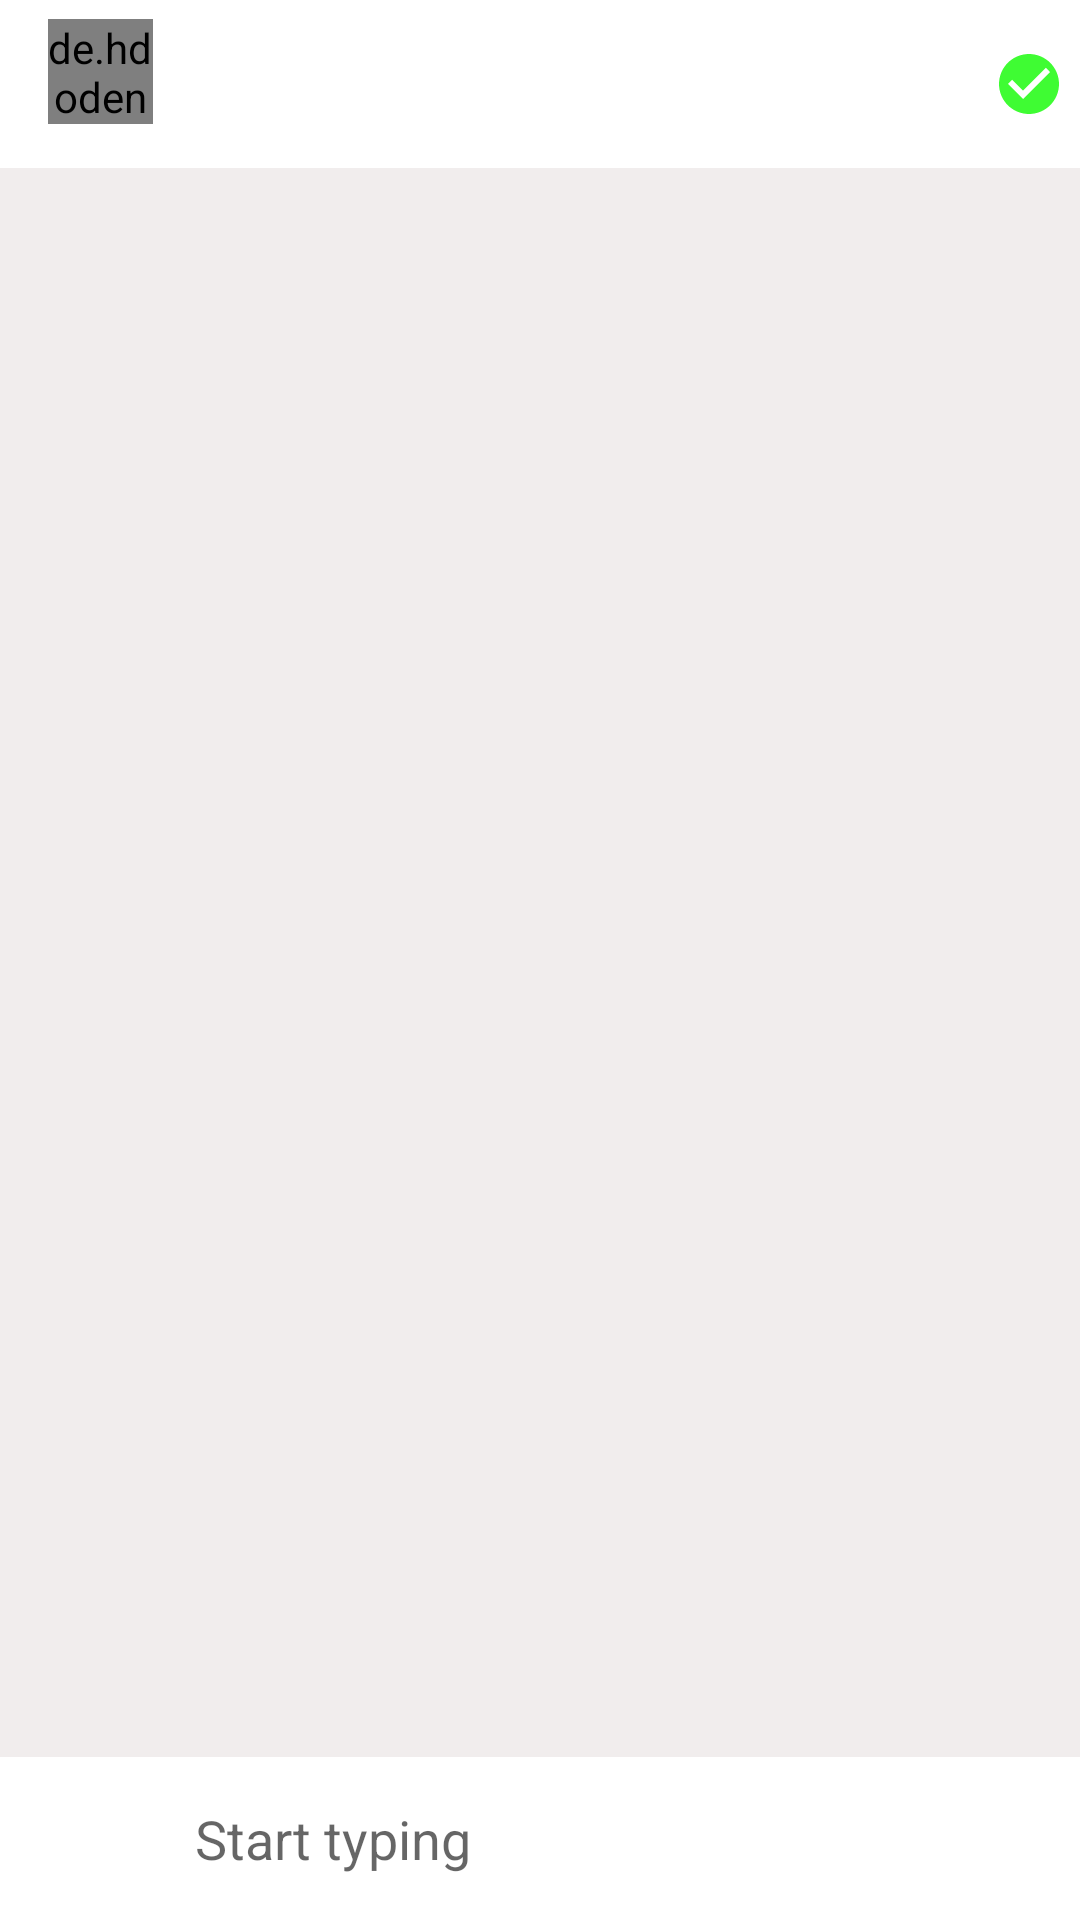

Screen size 1080 x 1920. Icon name, then its box in pixels as bbox=(x1, y1, x2, y2):
unblocked: bbox=(999, 54, 1059, 114)
